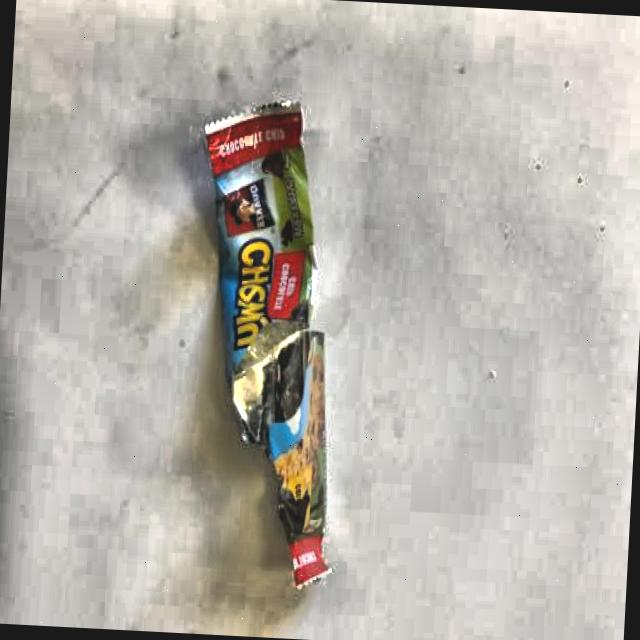trash: (197, 100, 338, 600)
